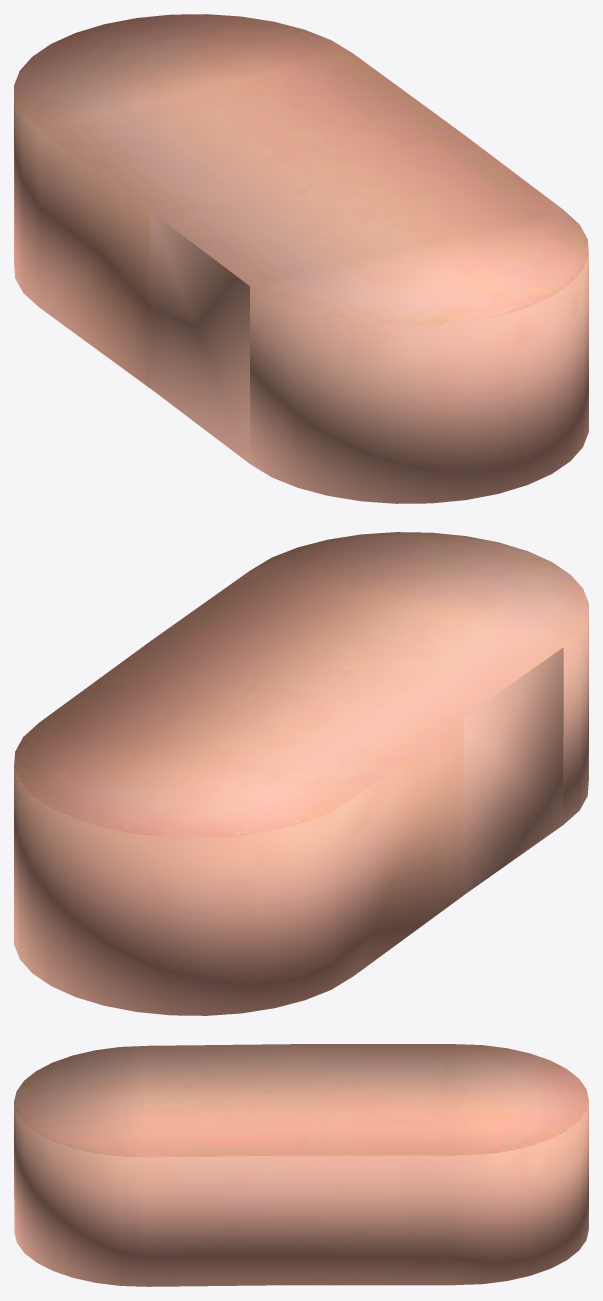
3 views of the same model, one above another, from view 1: azimuth 30°, elevation 25°; view 2: azimuth 150°, elevation 25°; view 3: azimuth 270°, elevation 25° (orthographic). The views are drawn at different scales.
Parts seen in each view (by area): view 1: 圓柱體; view 2: 圓柱體; view 3: 圓柱體.
Part boxes in pixels (<box>): 圓柱體: <box>14,14,588,503</box>; 圓柱體: <box>14,532,588,1015</box>; 圓柱體: <box>14,1044,588,1286</box>.
Size of the model in its own units: 0.9174 by 0.5061 by 2.
